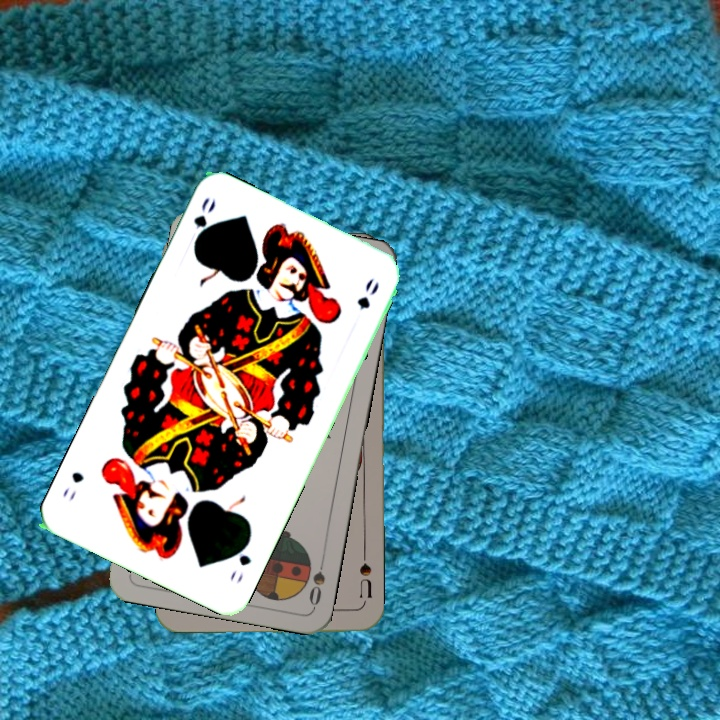GO: (189, 193, 219, 251), (226, 533, 255, 585)
SO: (305, 550, 328, 609)
SU: (356, 548, 375, 607)
